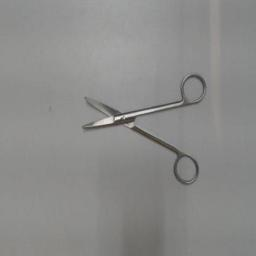Curved Mayo Scissors: (78, 70, 210, 190)
